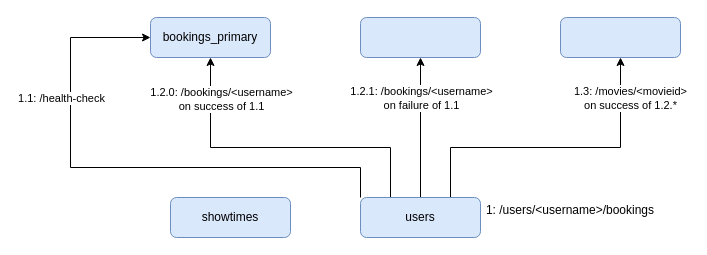
This 707x255 diagram has some shape labels left out. The shapes that lost their labels are listed below. From the top down, each one's centre as x and y in pixels, then its label:
the point at 420,37: bookings_secondary
the point at 620,37: movies
